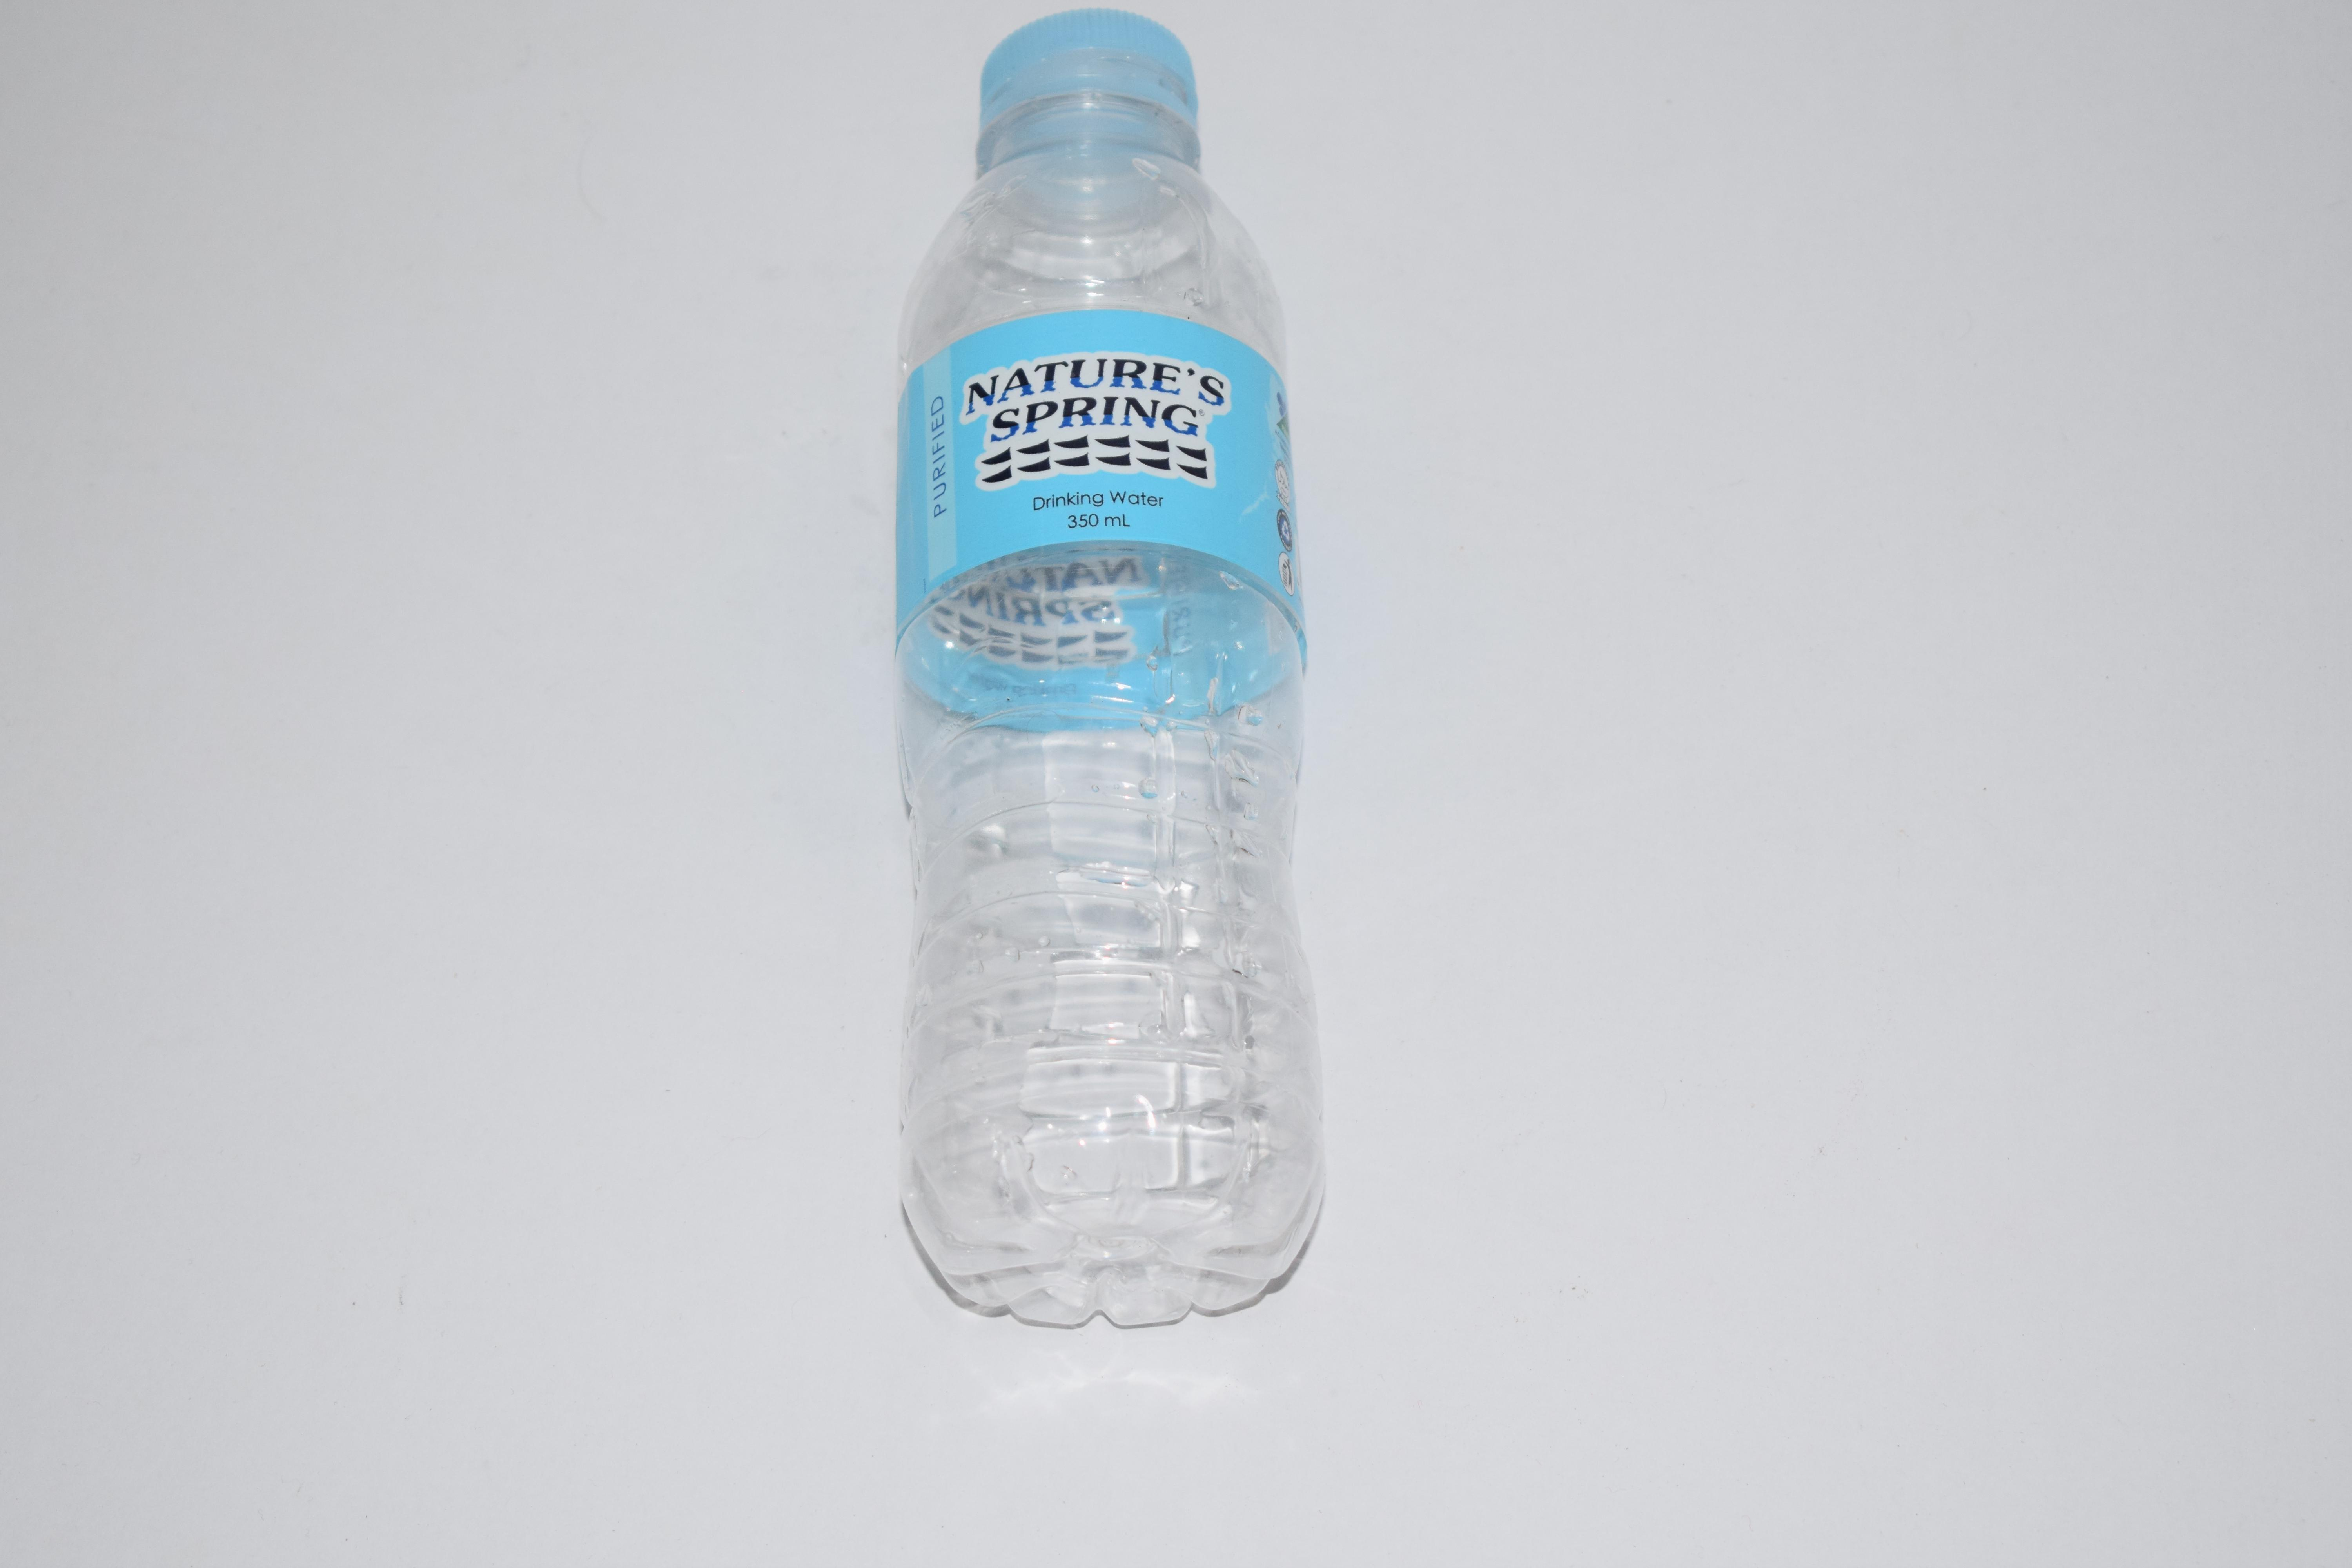bottle: (882, 42, 1337, 1297)
